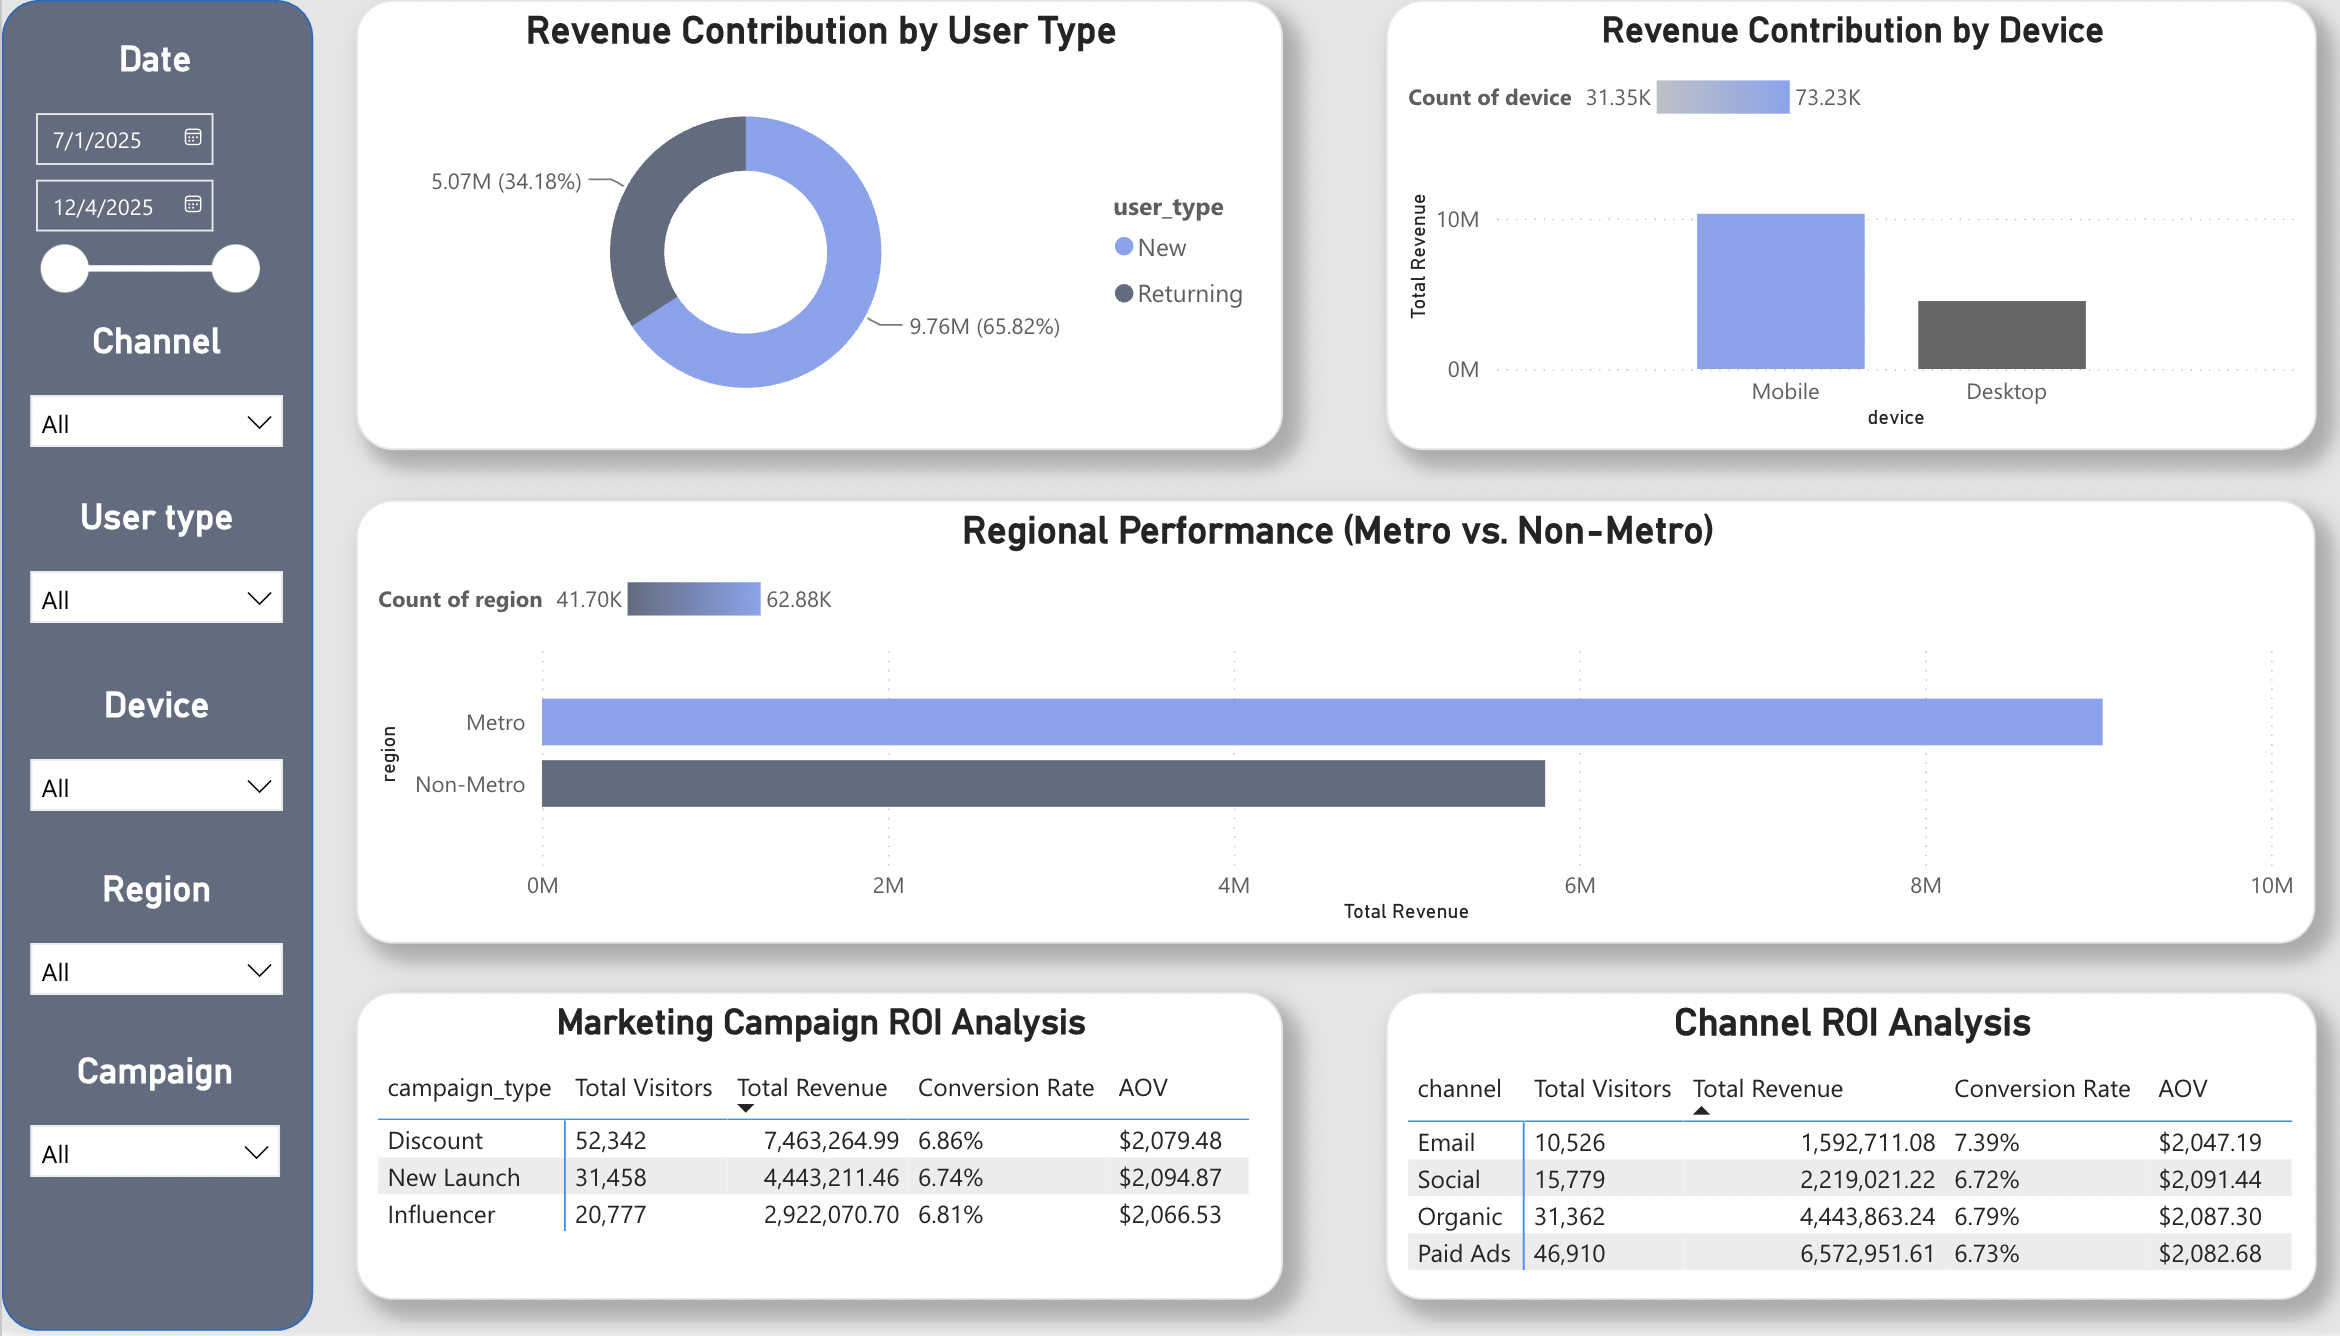

This screenshot's page, from the dashboard's own definition file:
{"tool":"powerbi","page":{"name":"Customer & Marketing Insights","canvas":[1280,720],"ordinal":2},"visuals":[{"type":"shape","box":[0,0,168.3,720],"z":0},{"type":"slicer","title":"Date","fields":{"Values":["clean_data_for_analysis.date"]},"box":[5.5,23.2,155,151.7],"z":1000},{"type":"slicer","title":"Channel","fields":{"Values":["clean_data_for_analysis.channel"]},"box":[5.5,175.3,156.7,78.3],"z":2000},{"type":"slicer","title":"User type","fields":{"Values":["clean_data_for_analysis.user_type"]},"box":[5.5,270.1,156.7,75],"z":3000},{"type":"slicer","title":"Device","fields":{"Values":["clean_data_for_analysis.device"]},"box":[5.5,372.7,156.7,75],"z":4000},{"type":"slicer","title":"Region","fields":{"Values":["clean_data_for_analysis.region"]},"box":[5.5,471.9,156.7,76.7],"z":5000},{"type":"slicer","title":"Campaign ","fields":{"Values":["clean_data_for_analysis.campaign_type"]},"box":[5.5,570,155,70],"z":6000},{"type":"donutChart","title":"Revenue Contribution by User Type","fields":{"Category":["clean_data_for_analysis.user_type"],"Y":["clean_data_for_analysis.Total Revenue"]},"box":[191.7,0,501.7,243.3],"z":7000},{"type":"clusteredBarChart","title":"Regional Performance (Metro vs. Non-Metro)","fields":{"Category":["clean_data_for_analysis.region"],"Y":["clean_data_for_analysis.Total Revenue"]},"box":[191.7,270,1060,240],"z":8000},{"type":"pivotTable","title":"Marketing Campaign ROI Analysis","fields":{"Rows":["clean_data_for_analysis.campaign_type"],"Values":["clean_data_for_analysis.Total Visitors","clean_data_for_analysis.Total Revenue","clean_data_for_analysis.Conversion Rate","clean_data_for_analysis.AOV"]},"box":[191.7,536.7,501.7,166.7],"z":9000},{"type":"columnChart","title":"Revenue Contribution by Device","fields":{"Category":["clean_data_for_analysis.device"],"Y":["clean_data_for_analysis.Total Revenue"]},"box":[748.3,0,503.3,243.3],"z":10000},{"type":"pivotTable","title":"Channel ROI Analysis","fields":{"Rows":["clean_data_for_analysis.channel"],"Values":["clean_data_for_analysis.Total Visitors","clean_data_for_analysis.Total Revenue","clean_data_for_analysis.Conversion Rate","clean_data_for_analysis.AOV"]},"box":[748.3,536.7,503.3,166.7],"z":11000}]}

Visuals, with their boxes in screenshot pixels (x1, y1, x2, y2), scaled from the page's 1280x720 canvas onto the 2340x1336 screenshot:
shape: <box>0,0,308,1335</box>
"Date" slicer: <box>10,43,293,325</box>
"Channel" slicer: <box>10,325,297,471</box>
"User type" slicer: <box>10,501,297,640</box>
"Device" slicer: <box>10,692,297,831</box>
"Region" slicer: <box>10,876,297,1018</box>
"Campaign " slicer: <box>10,1058,293,1188</box>
"Revenue Contribution by User Type" donutChart: <box>350,0,1268,451</box>
"Regional Performance (Metro vs. Non-Metro)" clusteredBarChart: <box>350,501,2288,946</box>
"Marketing Campaign ROI Analysis" pivotTable: <box>350,996,1268,1305</box>
"Revenue Contribution by Device" columnChart: <box>1368,0,2288,451</box>
"Channel ROI Analysis" pivotTable: <box>1368,996,2288,1305</box>
